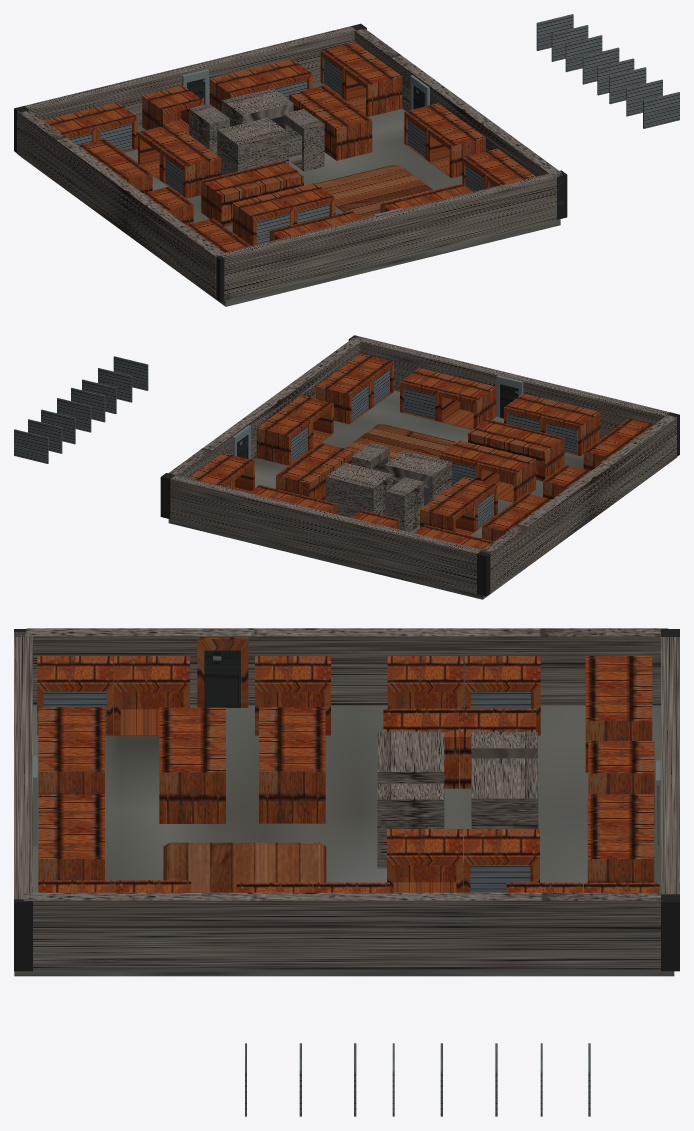
File: Mapa culero2.fbx
3 renders of one model, top to bottom at view 1: azimuth 30°, elevation 25°; view 2: azimuth 150°, elevation 25°; view 3: azimuth 270°, elevation 25°, orthographic. The views are drawn at different scales.
Parts seen in each view (by area): view 1: pCube12, pCube13, Cube.001, pCube11, pCube14, pCube22, pCube15.001, pCube2.007, pCube5.012, pCube2.008, pCube2.012, pCube19 (+40 smaller); view 2: pCube11, pCube13, Cube.001, pCube12, pCube14, pCube15, pCube2.010, pCube2.012, pCube5.006, pCube22, pCube15.001, pCube5.011 (+39 smaller); view 3: pCube14, Cube.001, pCube13, pCube22, pCube5.010, pCube2.013, pCube2.002, pCube12, pCube11, pCube5.012, pCube15, pCube2.001 (+33 smaller).
Boxes of the visible parts, x1,y1,x2,y2 form: pCube12: [221, 173, 563, 300]; pCube13: [17, 110, 225, 299]; Cube.001: [23, 82, 560, 306]; pCube11: [24, 26, 356, 126]; pCube14: [354, 28, 561, 176]; pCube22: [316, 165, 433, 218]; pCube15.001: [217, 117, 288, 175]; pCube2.007: [344, 59, 402, 116]; pCube5.012: [313, 103, 372, 160]; pCube2.008: [428, 120, 485, 178]; pCube2.012: [201, 170, 262, 226]; pCube19: [283, 109, 324, 171]; pCube11: [170, 475, 481, 593]; pCube13: [481, 415, 676, 593]; Cube.001: [168, 390, 673, 599]; pCube12: [355, 336, 669, 438]; pCube14: [168, 337, 362, 477]; pCube15: [325, 462, 392, 517]; pCube2.010: [438, 377, 496, 429]; pCube2.012: [478, 450, 535, 502]; pCube5.006: [256, 412, 311, 465]; pCube22: [345, 424, 456, 460]; pCube15.001: [384, 450, 451, 502]; pCube5.011: [506, 428, 564, 481]; pCube14: [23, 892, 660, 969]; Cube.001: [14, 705, 674, 976]; pCube13: [26, 628, 668, 705]; pCube22: [163, 842, 326, 892]; pCube5.010: [259, 739, 325, 823]; pCube2.013: [159, 740, 225, 823]; pCube2.002: [114, 656, 189, 735]; pCube12: [14, 632, 32, 899]; pCube11: [661, 637, 679, 894]; pCube5.012: [387, 829, 462, 892]; pCube15: [471, 758, 538, 828]; pCube2.001: [255, 656, 330, 735].
Size of the model in its own units: 5790 by 510 by 3889.
Materials: 22 (19 with a texture image).
